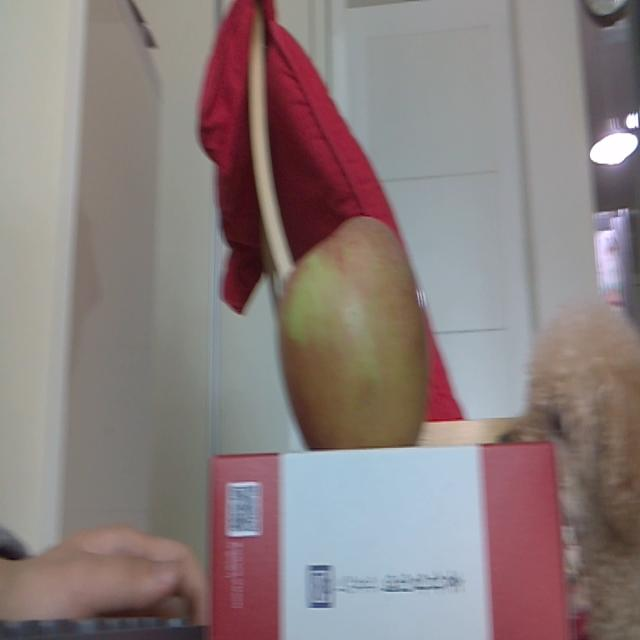apple: (276, 220, 426, 443)
